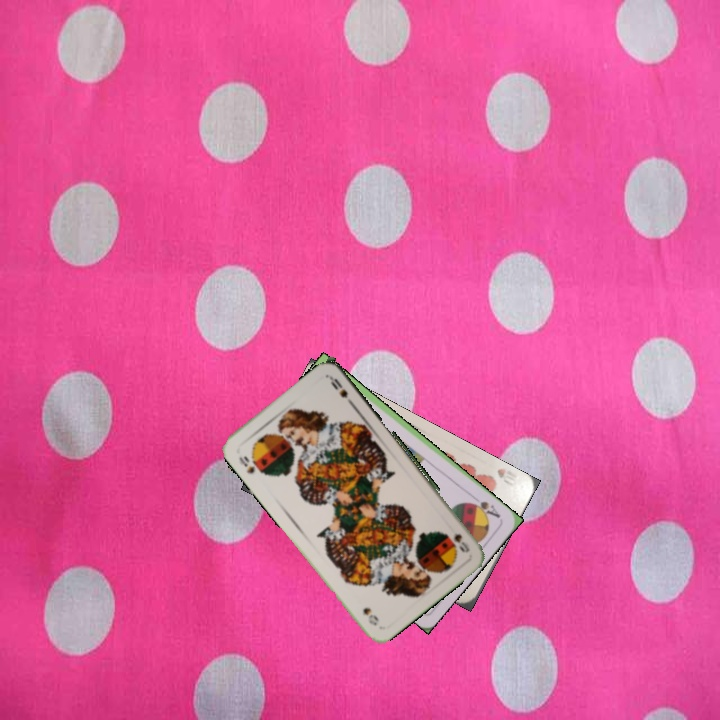H10: (493, 464, 520, 488)
SA: (466, 497, 503, 521)
SO: (235, 452, 265, 476), (450, 529, 472, 556)
